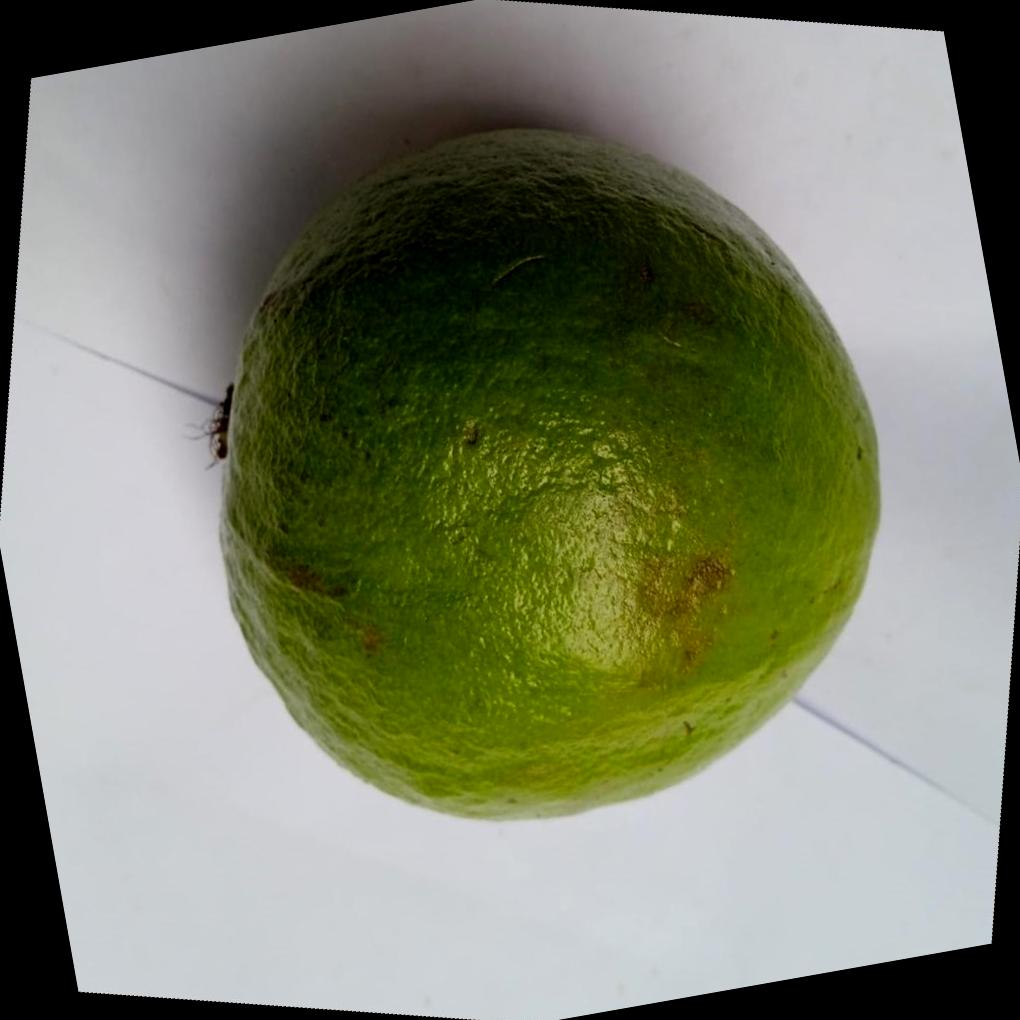FreshGuava: (217, 120, 880, 821)
